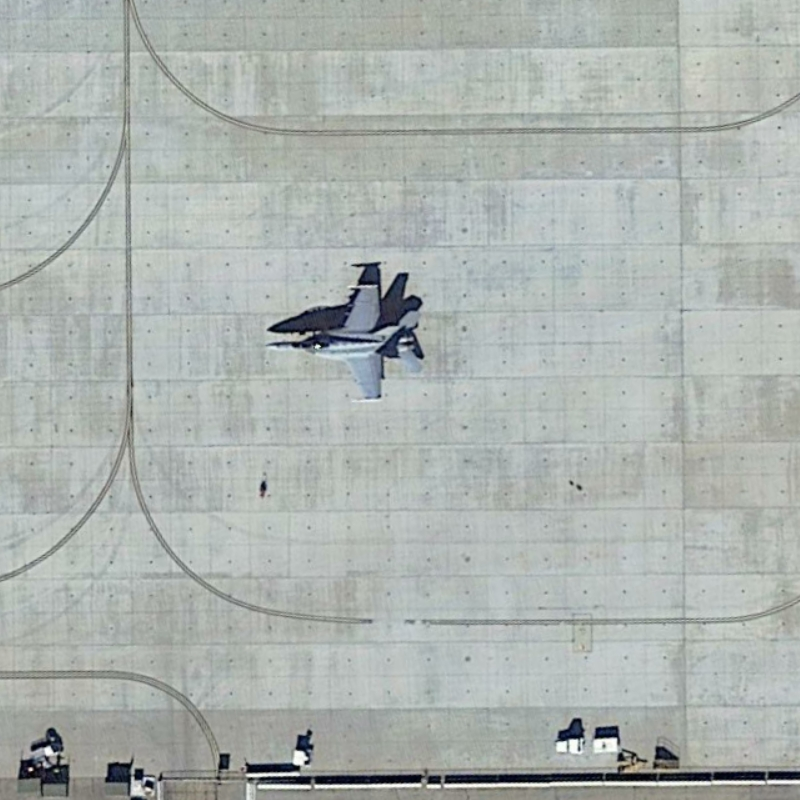A16: (255, 272, 438, 411)
